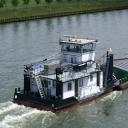tugboat: (14, 32, 117, 117)
